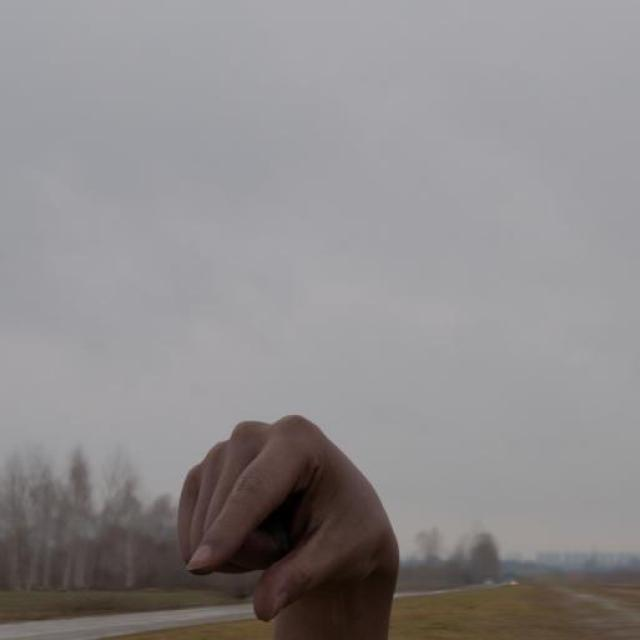Q: (163, 407, 405, 636)
